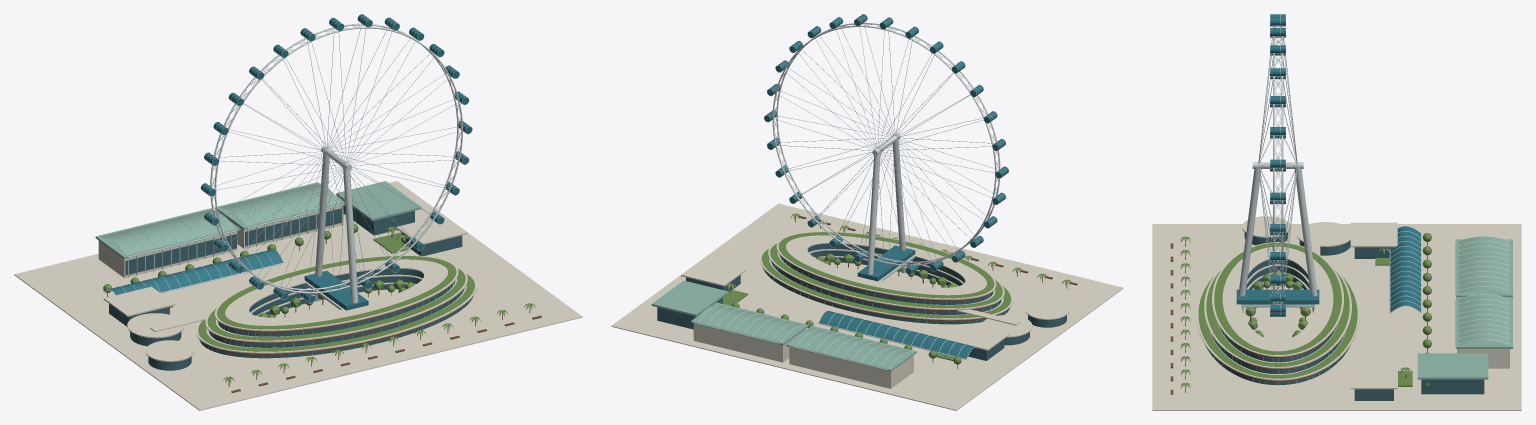
Rendered from flyer-detail.glb.
3 views of the same model, side by side, from view 1: azimuth 30°, elevation 25°; view 2: azimuth 150°, elevation 25°; view 3: azimuth 270°, elevation 25° (orthographic). The views are drawn at different scales.
Visible parts, largest first — view 1: Terrace slab, Terminal glazing, Wheel rim, Green metal roof, Planted roof, Capsule 00, Tension spoke, Horizontal sun screen; view 2: Terrace slab, Wheel rim, Green metal roof, Planted roof, Capsule 00, Terminal glazing, Tension spoke, Horizontal sun screen; view 3: Terrace slab, Green metal roof, Planted roof, Wheel rim, Capsule 00, Terminal glazing, Tension spoke, Horizontal sun screen.
Part boxes in pixels (x1,y1,x2,y2): Terrace slab: (14, 181, 582, 410); Terminal glazing: (109, 200, 473, 370); Wheel rim: (100, 14, 472, 357); Green metal roof: (95, 181, 421, 258); Planted roof: (103, 224, 535, 383); Capsule 00: (106, 14, 472, 310); Tension spoke: (212, 25, 461, 291); Horizontal sun screen: (107, 230, 541, 392); Terrace slab: (611, 203, 1123, 410); Wheel rim: (693, 14, 1008, 370); Green metal roof: (651, 280, 916, 371); Planted roof: (723, 213, 1072, 364); Capsule 00: (764, 14, 1008, 358); Terminal glazing: (657, 243, 1066, 360); Tension spoke: (774, 25, 998, 264); Horizontal sun screen: (730, 215, 1077, 368); Terrace slab: (1152, 216, 1521, 410); Green metal roof: (1417, 236, 1512, 379); Planted roof: (1180, 233, 1431, 389); Wheel rim: (1214, 14, 1513, 384); Capsule 00: (1236, 14, 1420, 316); Terminal glazing: (1206, 232, 1484, 400); Tension spoke: (1258, 36, 1297, 293); Horizontal sun screen: (1170, 242, 1427, 394).
Bounding box in the file's own units: 224 × 165 × 188.
